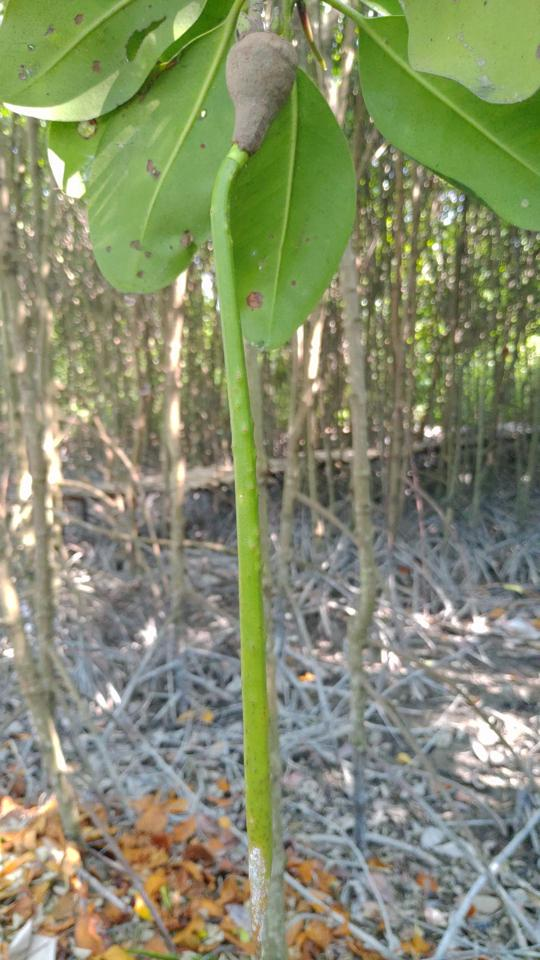setengah matang: (202, 7, 311, 937)
